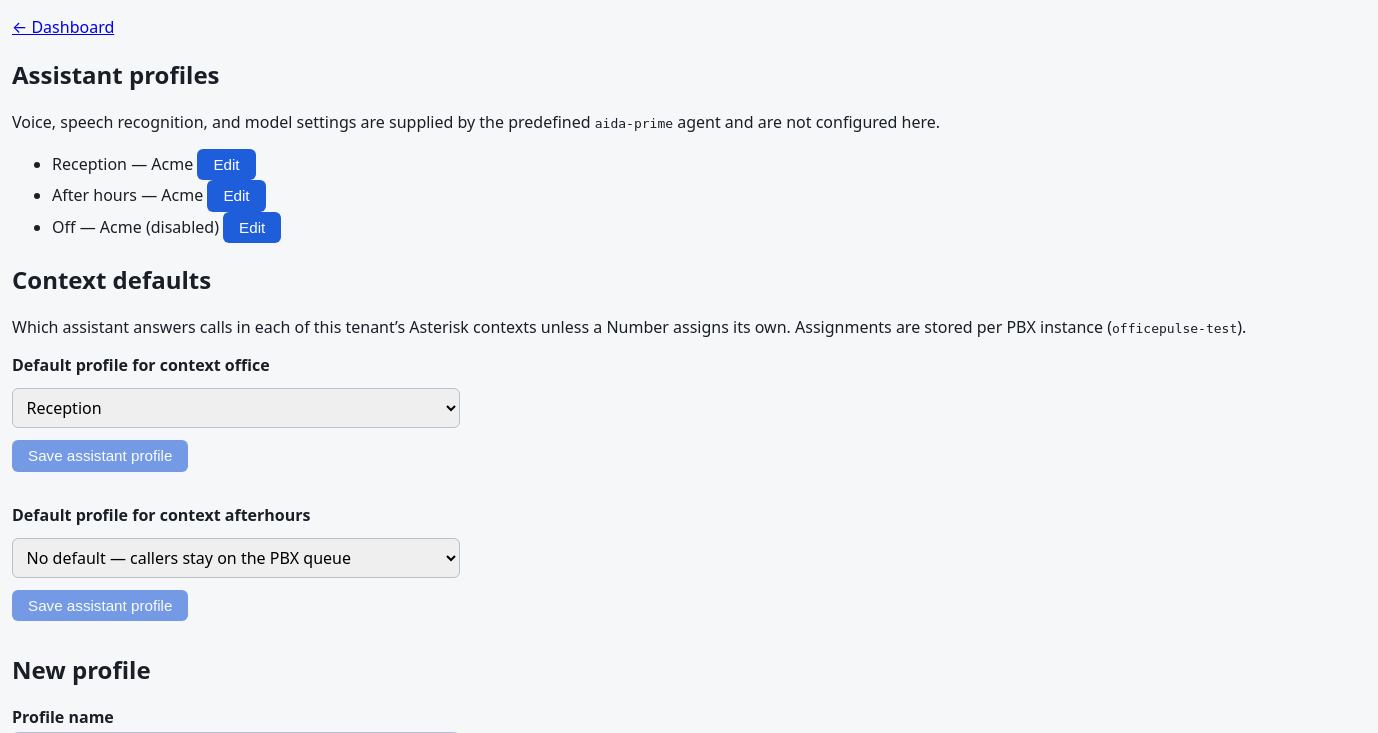
Scenario: context default profiles › offers one default per authorized context and saves it with a null DID
Expected: the dropdown labelled "Default profile for context office" shows "Reception", [12, 388, 460, 428]
Expected: the text "stored per PBX instance" shows "officepulse-test", [1112, 321, 1237, 336]
Select "After hours" in the dropdown labelled "Default profile for context afterhours" at x=236, y=558, box [12, 538, 460, 578]
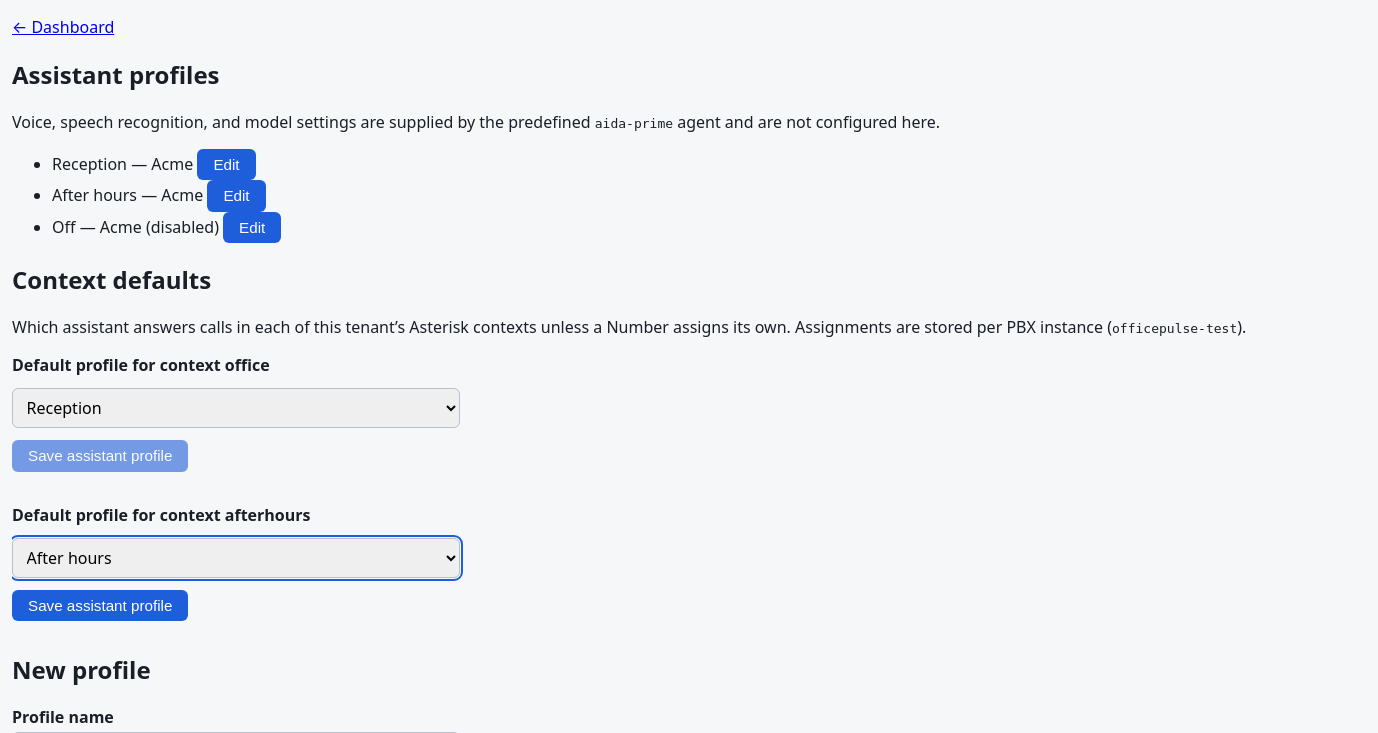
Click the button "Save assistant profile" below "Default profile for context afterhours".
click(100, 606)  # box [12, 590, 188, 621]
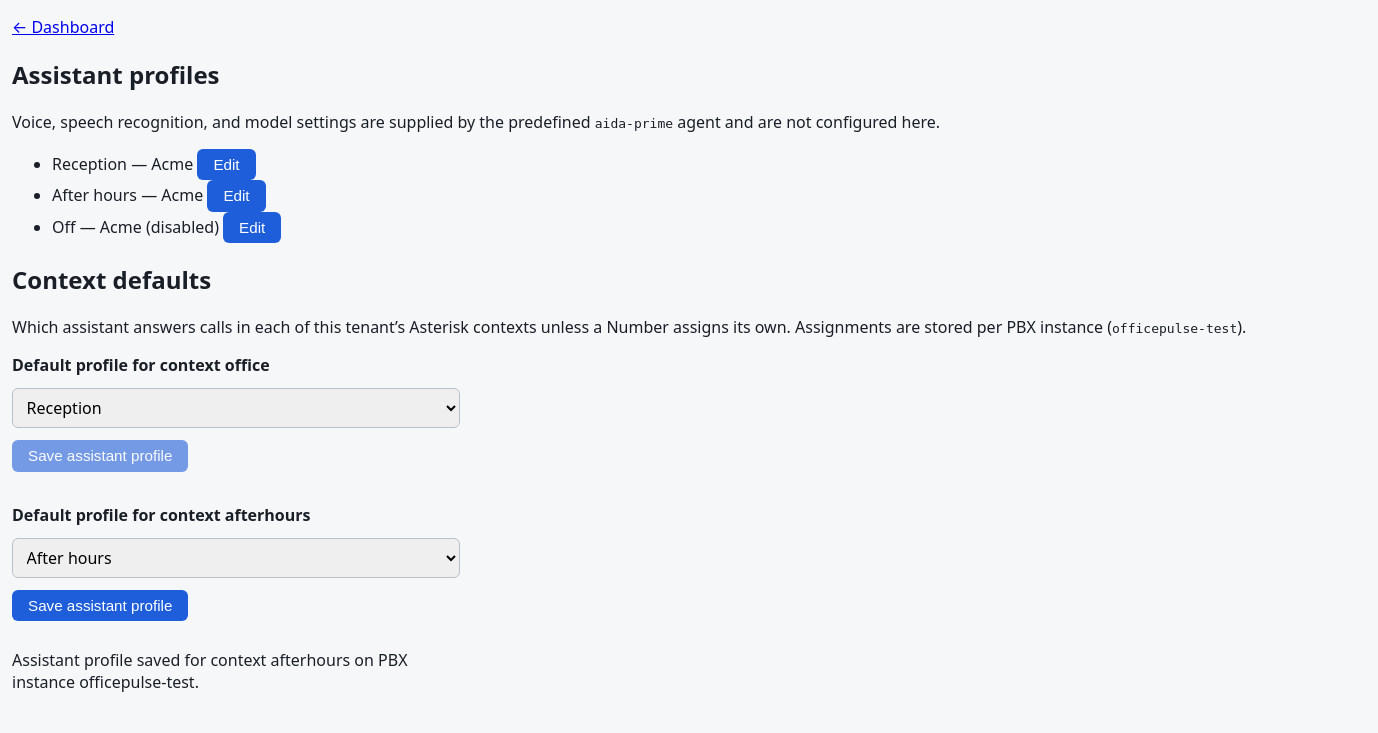
Expected: the message shows "saved for context afterhours", [12, 649, 408, 693]
